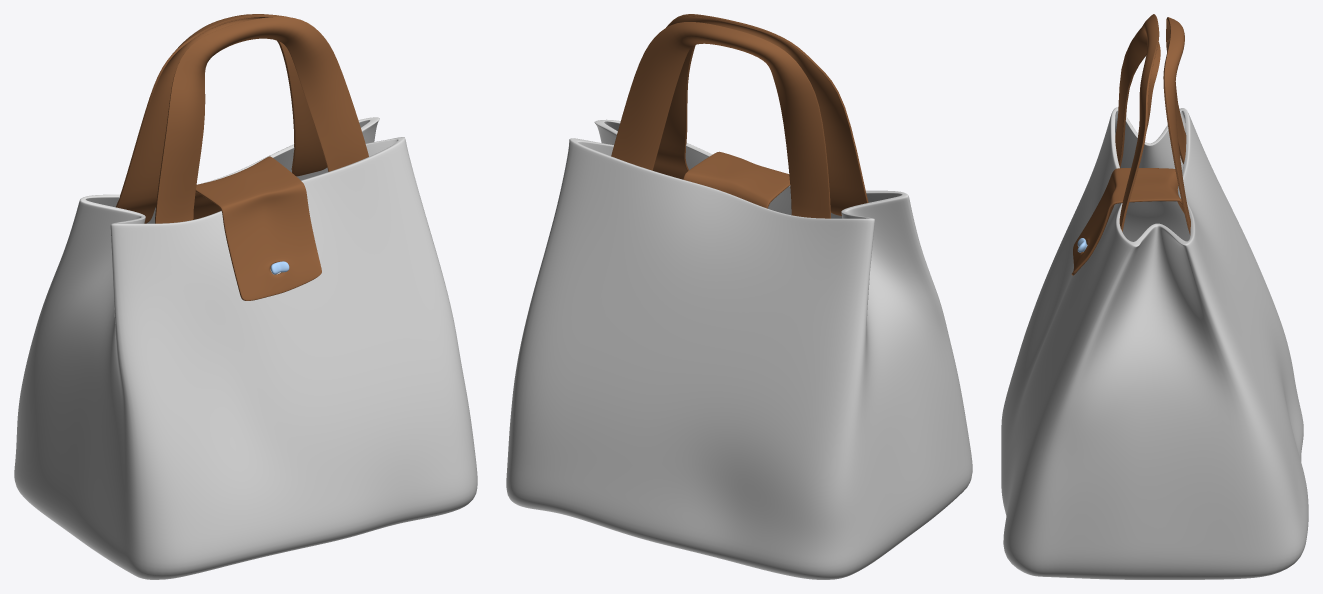
Rendered from borsa.fbx.
3 views of the same model, side by side, from view 1: azimuth 30°, elevation 25°; view 2: azimuth 150°, elevation 25°; view 3: azimuth 270°, elevation 25° (orthographic).
Parts seen in each view (by area): view 1: Cube, Plane.015, Plane.014; view 2: Cube, Plane.015, Plane.014; view 3: Cube, Plane.015, Plane.014.
Boxes of the visible parts, x1,y1,x2,y2 form: Cube: (14,117,477,579); Plane.015: (116,14,368,223); Plane.014: (193,156,321,300); Cube: (506,119,972,579); Plane.015: (611,14,868,218); Plane.014: (683,151,790,208); Cube: (1001,107,1308,579); Plane.015: (1115,14,1190,235); Plane.014: (1071,168,1184,275).
Size of the model in its own units: 26.04 by 33.16 by 19.59.
